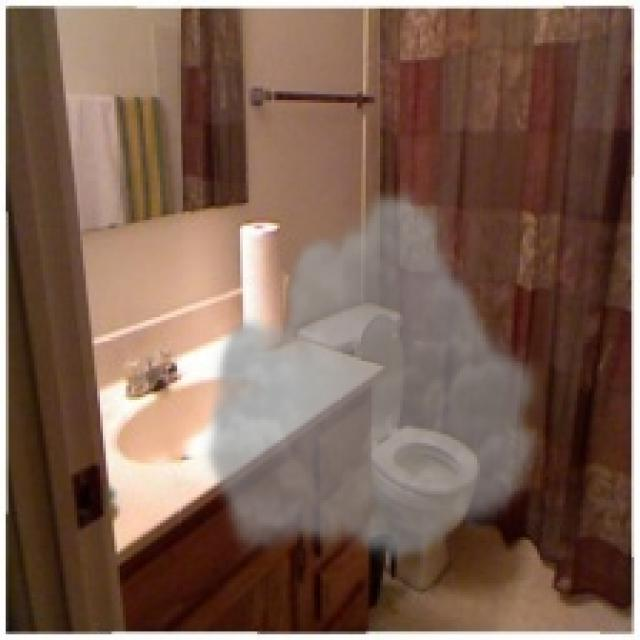smoke: (200, 180, 549, 566)
